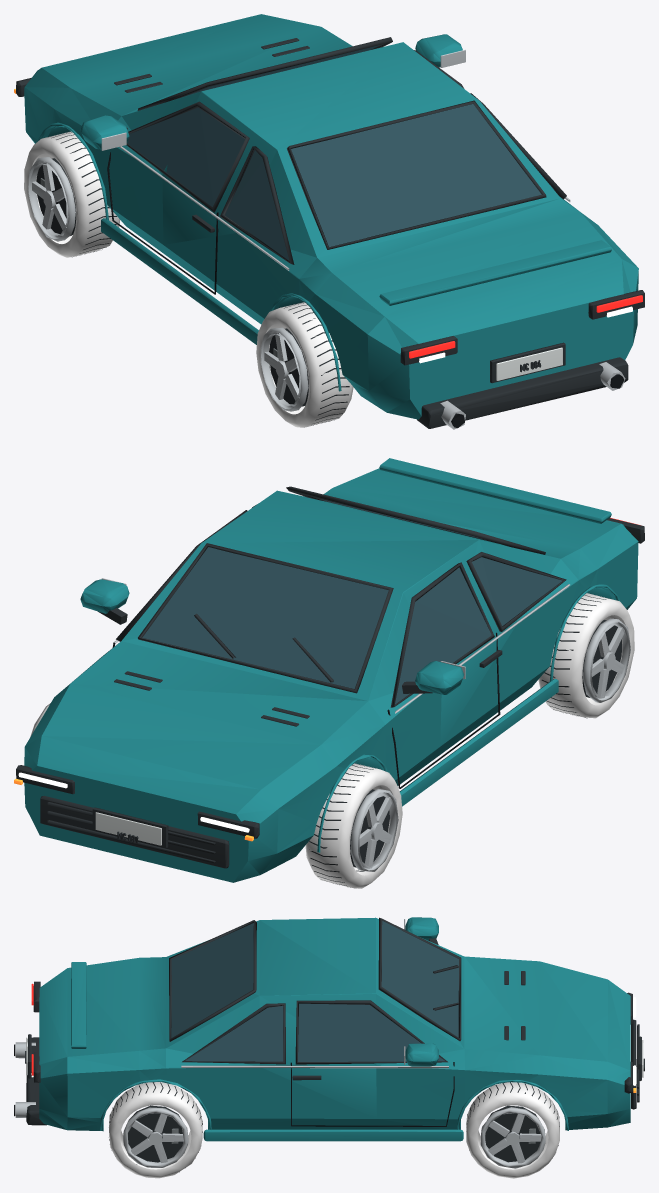
File: vehicle_mistral_gt_coupe_lod2.glb
3 renders of one model, top to bottom at view 1: azimuth 30°, elevation 25°; view 2: azimuth 150°, elevation 25°; view 3: azimuth 270°, elevation 25°, orthographic. The views are drawn at different scales.
Visible parts, largest first — view 1: vehicle_lod2; view 2: vehicle_lod2; view 3: vehicle_lod2.
Boxes of the visible parts, left/top/right/bottom form: vehicle_lod2: left=14, top=14, right=644, bottom=429; vehicle_lod2: left=14, top=458, right=644, bottom=888; vehicle_lod2: left=14, top=917, right=644, bottom=1178.
Size of the model in its own units: 2.57 by 1.45 by 4.93.
